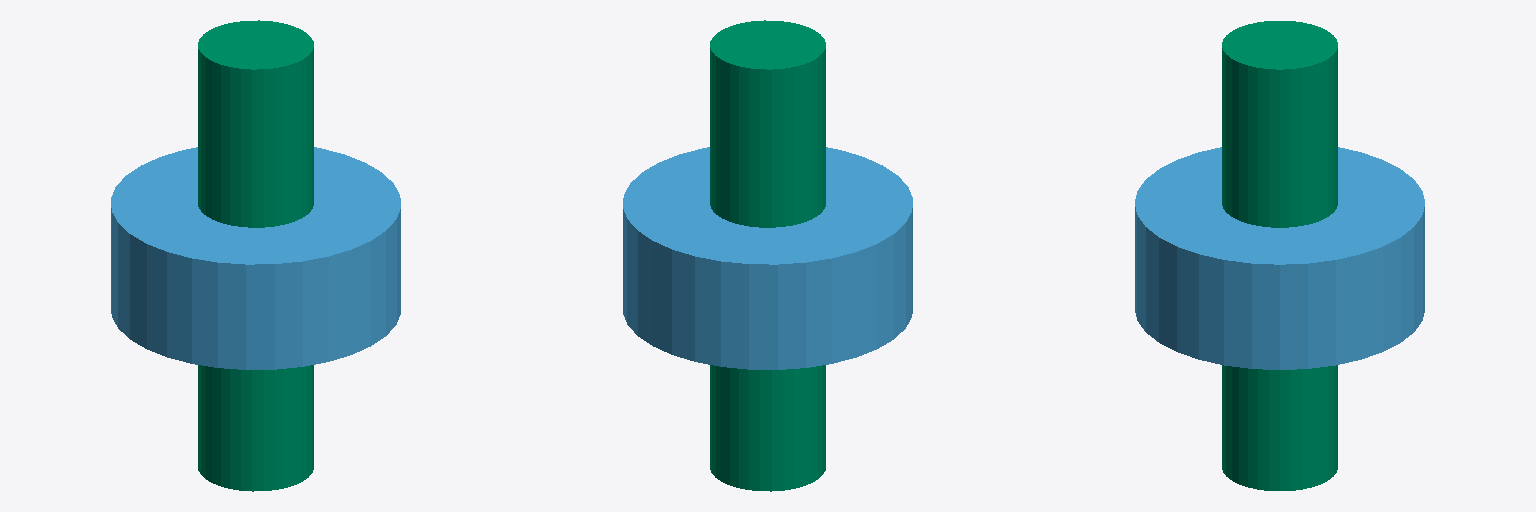
robot.urdf — kinect_robot_1_1:
<?xml version="1.0" ?>
<robot name="kinect_robot_1_1">
  <link name="world"/>
  <!-- <link name="dummy_link">
  </link> -->
  <link name="base_link">
    <inertial>
      <mass value="1"/>
      <origin rpy="0  0  0" xyz="0  0  0"/>
      <inertia ixx="0.145833" ixy="0" ixz="0" iyy="0.145833" iyz="0" izz="0.125"/>
    </inertial>
    <collision name="base_link_collision">
      <origin rpy="0  0  0" xyz="0    0   0"/>
      <geometry>
        <cylinder length="0.2" radius="0.25"/>
      </geometry>
    </collision>
    <visual name="base_link_visual">
      <origin rpy="0  0  0" xyz="0    0   0"/>
      <geometry>
        <cylinder length="0.2" radius="0.25"/>
      </geometry>
    </visual>
  </link>
  <!-- <joint name="dummy_joint" type="fixed">
    <parent link="dummy_link"/>
    <child link="base_link"/>
  </joint> -->
  <joint name="fixed" type="fixed">
    <parent link="world"/>
    <child link="base_link"/>
  </joint>
  <link name="link_1">
    <inertial>
      <mass value="1"/>
      <origin rpy="0  0  0" xyz="0  0  0"/>
      <inertia ixx="0.145833" ixy="0" ixz="0" iyy="0.145833" iyz="0" izz="0.125"/>
    </inertial>
    <collision name="link_1_collision">
      <origin rpy="0  0  0" xyz="0  0  0"/>
      <geometry>
        <cylinder length="0.8" radius="0.1"/>
      </geometry>
    </collision>
    <visual name="link_1_visual">
      <origin rpy="0  0  0" xyz="0  0  0"/>
      <geometry>
        <cylinder length="0.8" radius="0.1"/>
      </geometry>
    </visual>
  </link>
  <link name="kinect_link">
    <inertial>
      <mass value="0.1"/>
      <origin rpy="0  0  0" xyz="0  0  0"/>
      <inertia ixx="0" ixy="0" ixz="0" iyy="0" iyz="0" izz="0"/>
    </inertial>
    <collision name="kinect_link_collision">
      <origin rpy="0  0  0" xyz="0  0  0"/>
      <geometry>
        <box size="0.073 0.276 0.072"/>
      </geometry>
    </collision>
    <visual name="kinect_link_visual">
      <origin rpy="0  0  0" xyz="0  0  0"/>
      <geometry>
        <mesh filename="package://surf_rec/meshes/kinect.dae" scale="1.0 1.0 1.0"/>
      </geometry>
    </visual>
  </link>
  <gazebo reference="kinect_link">
    <sensor name="camera" type="depth">
      <update_rate>2</update_rate>
      <camera name="__default__">
        <horizontal_fov>1.0472</horizontal_fov>
        <image>
          <width>500</width>
          <height>500</height>
          <format>R8G8B8</format>
        </image>
        <clip>
          <near>0.1</near>
          <far>3000</far>
        </clip>
      </camera>
      <plugin name="camera_plugin" filename="libgazebo_ros_openni_kinect.so">
        <baseline>0.2</baseline>
        <alwaysOn>1</alwaysOn>
        <updateRate>0.0</updateRate>
        <cameraName>camera_ir</cameraName>
        <imageTopicName>/camera/depth/image_raw</imageTopicName>
        <cameraInfoTopicName>/camera/depth/camera_info</cameraInfoTopicName>
        <depthImageTopicName>/camera/depth/image_raw</depthImageTopicName>
        <depthImageInfoTopicName>/camera/depth/camera_info</depthImageInfoTopicName>
        <pointCloudTopicName>/camera/depth/points</pointCloudTopicName>
        <frameName>kinect_link</frameName>
        <pointCloudCutoff>0.1</pointCloudCutoff>
        <distortionK1>0</distortionK1>
        <distortionK2>0</distortionK2>
        <distortionK3>0</distortionK3>
        <distortionT1>0</distortionT1>
        <distortionT2>0</distortionT2>
        <CxPrime>0</CxPrime>
        <Cx>0</Cx>
        <Cy>0</Cy>
        <focalLength>0</focalLength>
        <hackBaseline>0</hackBaseline>
      </plugin>
    </sensor>
  </gazebo>
  <joint name="joint_0" type="continuous">
    <parent link="base_link"/>
    <child link="link_1"/>
    <origin rpy="0  0  0" xyz="0    0    0"/>
    <axis xyz="0  0  1"/>
  </joint>
  <transmission name="transmission_0">
    <type>transmission_interface/SimpleTransmission</type>
    <joint name="joint_0">
      <hardwareInterface>EffortJointInterface</hardwareInterface>
    </joint>
    <actuator name="motor_0">
      <mechanicalReduction>1</mechanicalReduction>
      <hardwareInterface>EffortJointInterface</hardwareInterface>
    </actuator>
  </transmission>
  <!-- <gazebo reference="JOINT_0">
    <plugin name="kinect_rotation_control" filename="package://surf_rec/plugins/libkinect_robot_rotation_plugin.so">
      <velocity>0.1</velocity>
    </plugin>
  </gazebo> -->
  <joint name="joint_1" type="fixed">
    <parent link="link_1"/>
    <child link="kinect_link"/>
    <origin rpy="0  0  0" xyz="4.40000000e-04   3.11000000e-03   4.60750000e-01"/>
    <axis xyz="0  0  0"/>
    <limit effort="0" lower="0" upper="0" velocity="0"/>
  </joint>
  <gazebo>
    <plugin name="gazebo_ros_control" filename="libgazebo_ros_control.so">
      <robotNamespace>/kinect_robot_1_1</robotNamespace>
    </plugin>
  </gazebo>
</robot>

--- What the picture shows (computed from the rendered views, not written in the file) ---
3 views of the same robot in one strip: view 1: azimuth 30°, elevation 25°; view 2: azimuth 150°, elevation 25°; view 3: azimuth 270°, elevation 25° (orthographic).
Model kinect_robot_1_1 with 4 links and 3 joints (1 continuous, 2 fixed), rooted at world, posed all joints at 0.
Links seen in each view (by area): view 1: base_link, link_1; view 2: base_link, link_1; view 3: base_link, link_1.
Boxes of the visible links, <box> form: base_link: <box>111,147,400,369</box>; link_1: <box>198,20,313,491</box>; base_link: <box>623,147,912,369</box>; link_1: <box>710,20,825,491</box>; base_link: <box>1135,147,1424,369</box>; link_1: <box>1222,21,1337,490</box>.
Size in the robot's own frame: 0.5 by 0.5 by 0.8 metres.
Meshes: 1 distinct files referenced, 0 mesh visuals loaded (none loaded); not drawn: 1 (reference not matched to a file when rendering).